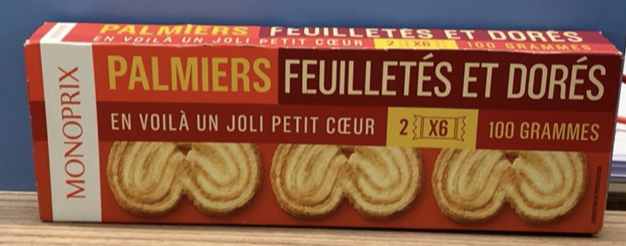cookies_100g-199g: (45, 42, 591, 225)
